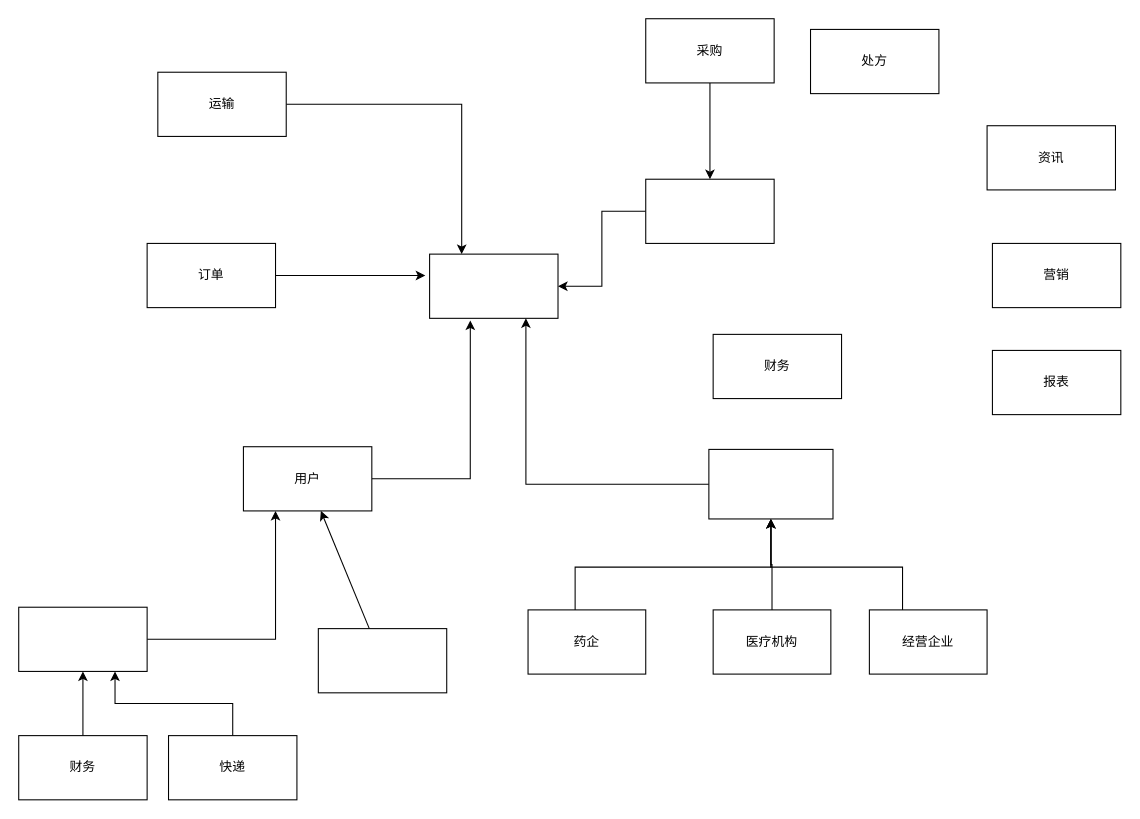
Image size: 1140x819. Some labels were removed from this diagram. Each missing label, with the centre of its shape:
医生: (382,660)
商品: (493,285)
商家: (82,638)
商户: (770,483)
库存: (709,210)
